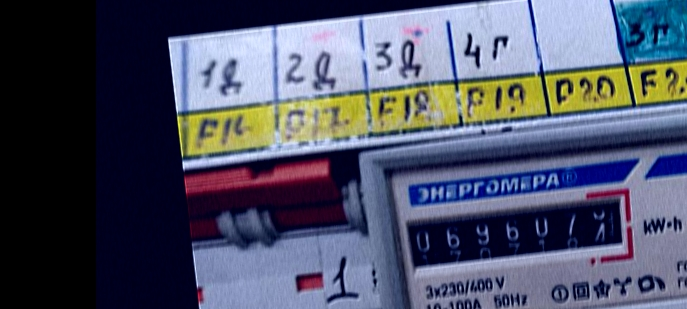0: (412, 228, 432, 254), (531, 212, 549, 239)
4: (590, 220, 608, 246)
6: (442, 224, 462, 250), (502, 216, 521, 242)
7: (561, 211, 579, 238)
9: (472, 221, 491, 247)
screen: (391, 182, 640, 284)
